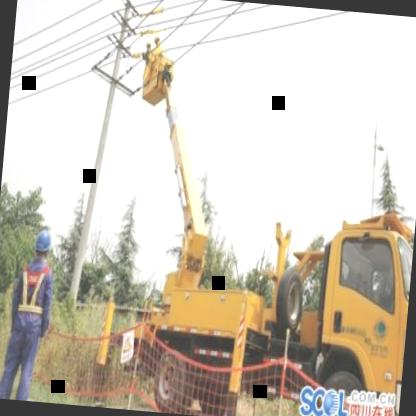helmet: (34, 224, 54, 264)
